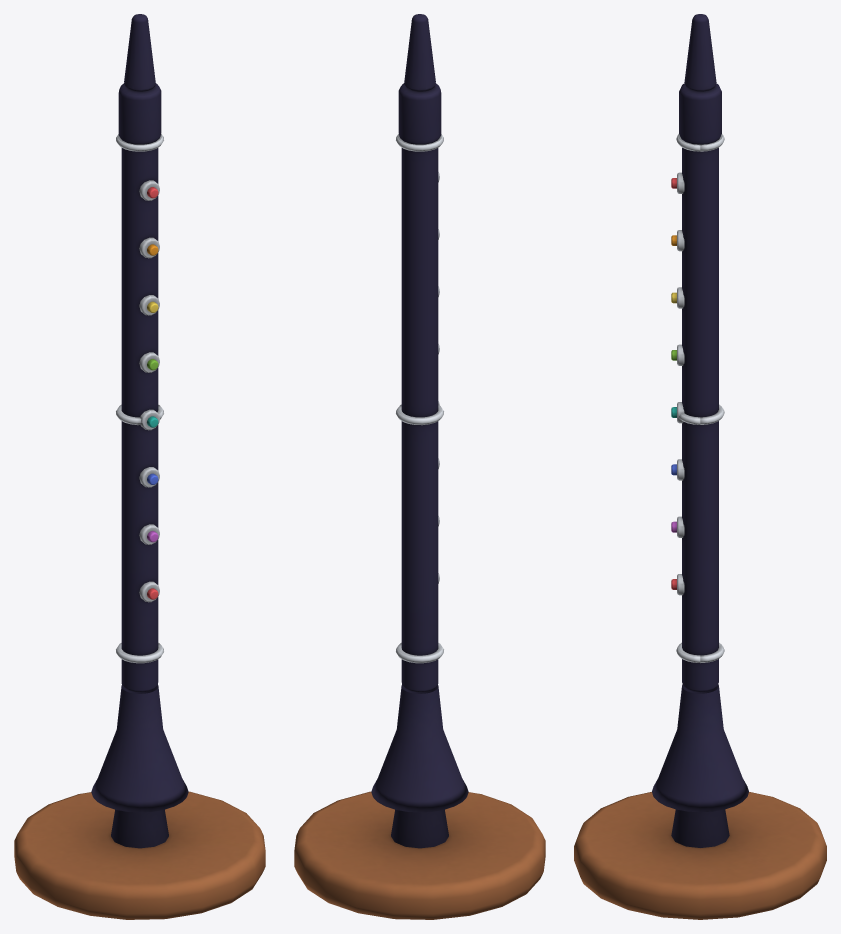
The model's file is Clarinet.fbx.
3 views of the same model, side by side, from view 1: azimuth 30°, elevation 25°; view 2: azimuth 150°, elevation 25°; view 3: azimuth 270°, elevation 25° (orthographic).
Visible parts, largest first — view 1: Clarinet_Body; view 2: Clarinet_Body; view 3: Clarinet_Body.
Part boxes in pixels (x1,y1,x2,y2): Clarinet_Body: (14, 14, 265, 919); Clarinet_Body: (294, 14, 545, 919); Clarinet_Body: (574, 14, 826, 919).
Size of the model in its own units: 0.26 by 0.97 by 0.26.
